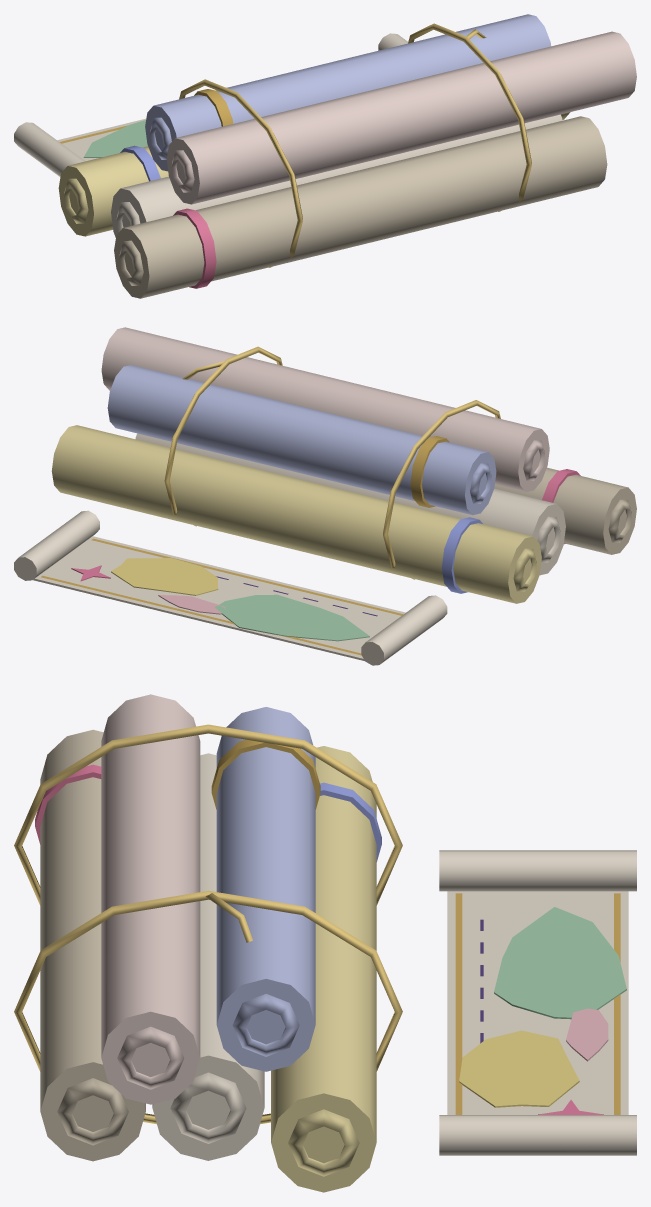
File: map_rolls.glb
3 views of the same model, one above another, from view 1: azimuth 30°, elevation 25°; view 2: azimuth 150°, elevation 25°; view 3: azimuth 270°, elevation 25° (orthographic). The views are drawn at different scales.
Parts seen in each view (by area): view 1: map_rolls; view 2: map_rolls; view 3: map_rolls.
Part boxes in pixels (x1=…): map_rolls: x1=14, y1=14, x2=636, y2=298; map_rolls: x1=14, y1=327, x2=636, y2=665; map_rolls: x1=14, y1=694, x2=636, y2=1192.
Size of what is drawn, in the model's own units: 0.5 by 0.15 by 0.35.
